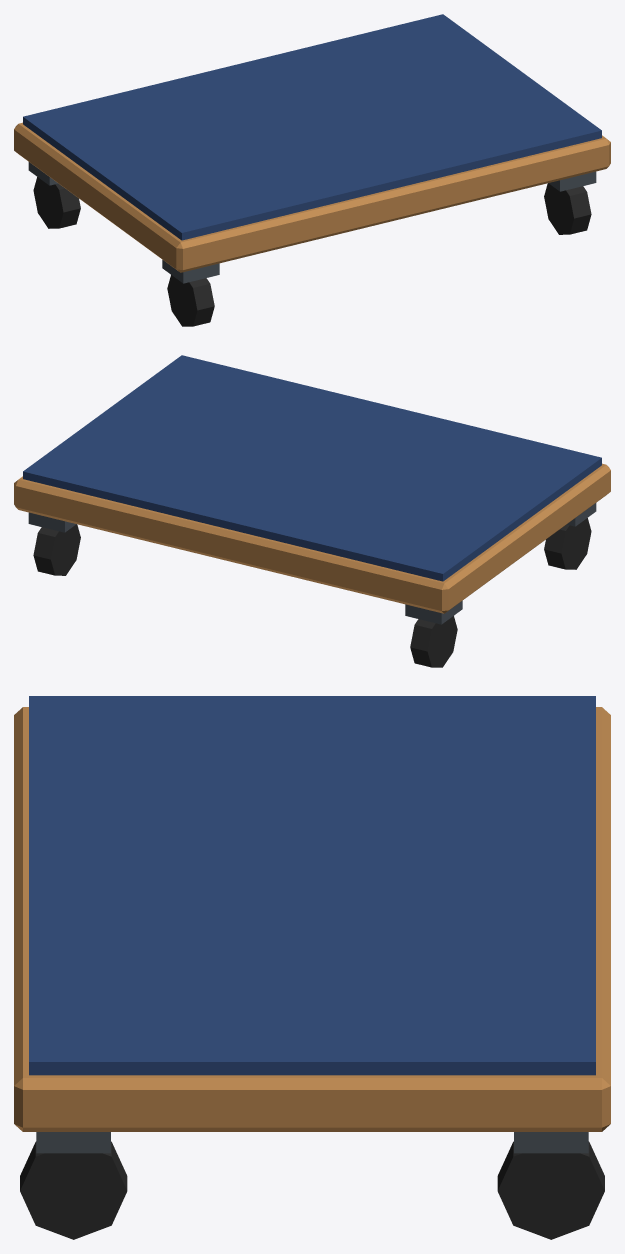
The model's file is PRP_Dolly.fbx.
3 renders of one model, top to bottom at view 1: azimuth 30°, elevation 25°; view 2: azimuth 150°, elevation 25°; view 3: azimuth 270°, elevation 25°, orthographic. The views are drawn at different scales.
Visible parts, largest first — view 1: PRP_Dolly; view 2: PRP_Dolly; view 3: PRP_Dolly.
Part boxes in pixels (bbox=[...]): PRP_Dolly: bbox=[14, 14, 610, 326]; PRP_Dolly: bbox=[14, 355, 610, 667]; PRP_Dolly: bbox=[14, 696, 610, 1239].
Bounding box in the file's own units: 3 × 0.7 × 2.
